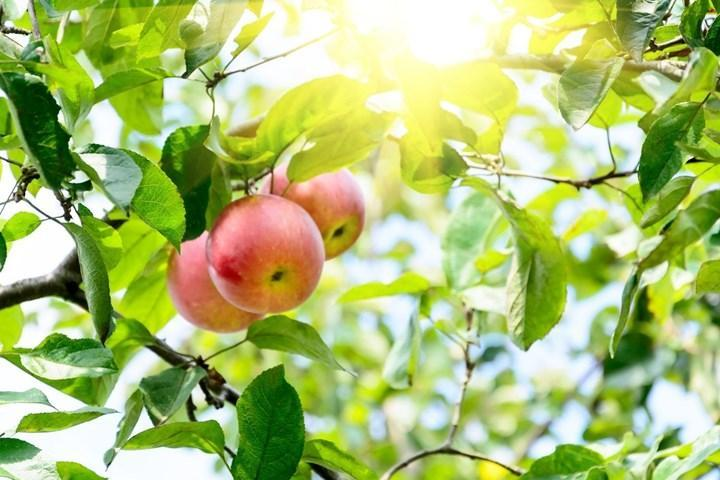apple: (205, 191, 326, 314), (163, 232, 268, 335), (272, 169, 367, 262)
